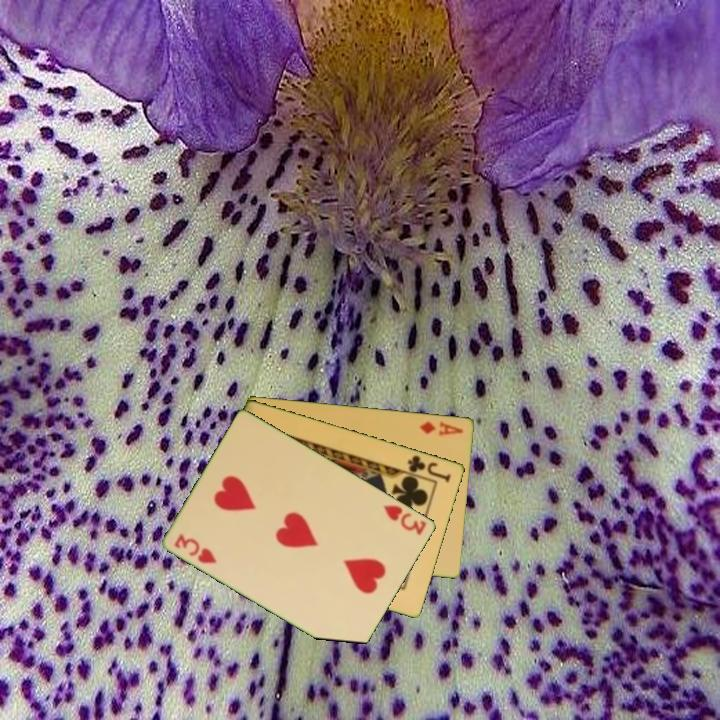3h: (380, 501, 430, 538), (171, 530, 220, 566)
Ad: (417, 417, 466, 439)
Jc: (404, 451, 454, 485)
